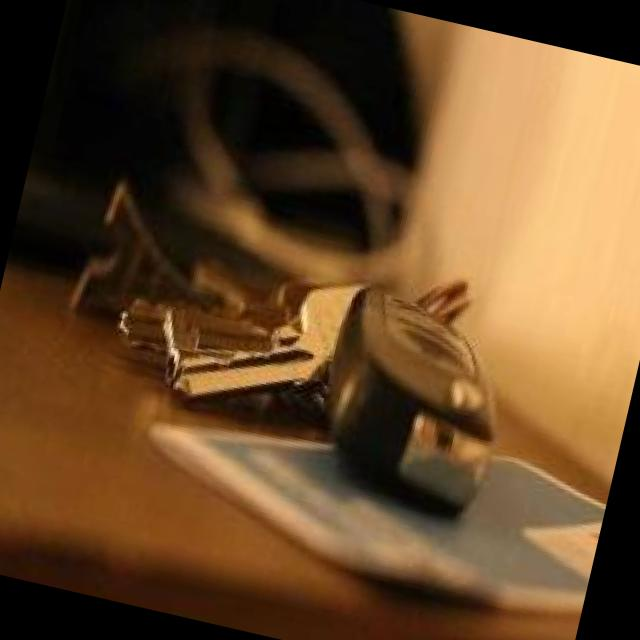anahtar: (98, 226, 352, 435)
